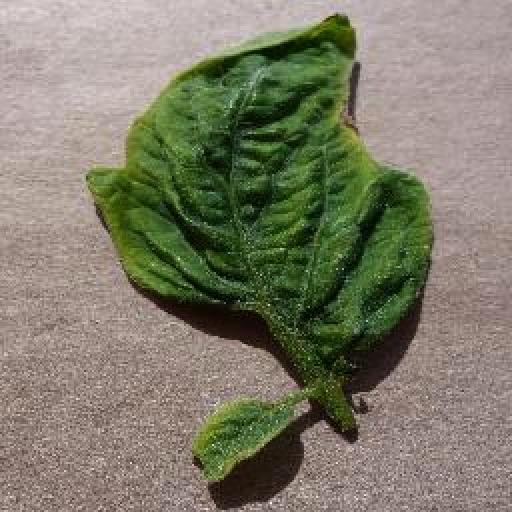disease_tomato: (86, 14, 436, 358)
